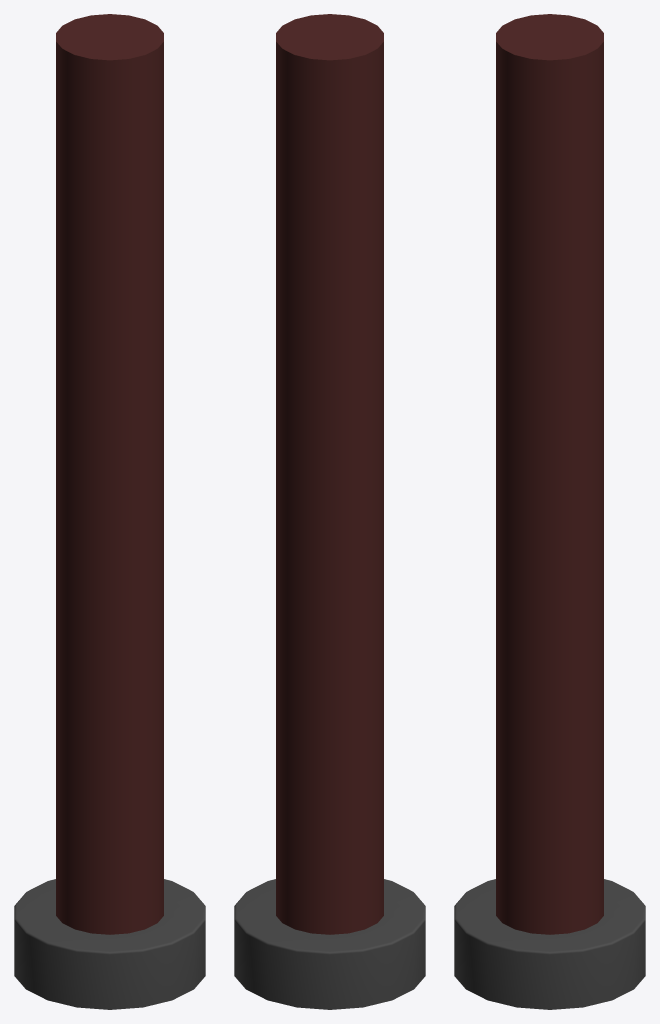
File: Vertical_Beam_large.FBX
3 views of the same model, side by side, from view 1: azimuth 30°, elevation 25°; view 2: azimuth 150°, elevation 25°; view 3: azimuth 270°, elevation 25° (orthographic).
Parts seen in each view (by area): view 1: Beam_Vertical_large, Beam_Vertical_Large_Stone_Base; view 2: Beam_Vertical_large, Beam_Vertical_Large_Stone_Base; view 3: Beam_Vertical_large, Beam_Vertical_Large_Stone_Base.
Boxes of the visible parts, box(x1,y1,x2,y2) form: Beam_Vertical_large: box(56, 14, 163, 934); Beam_Vertical_Large_Stone_Base: box(14, 879, 205, 1009); Beam_Vertical_large: box(276, 14, 383, 934); Beam_Vertical_Large_Stone_Base: box(234, 879, 425, 1009); Beam_Vertical_large: box(496, 14, 603, 934); Beam_Vertical_Large_Stone_Base: box(454, 879, 645, 1009).
Bounding box in the file's own units: 22.66 × 120 × 22.31.
